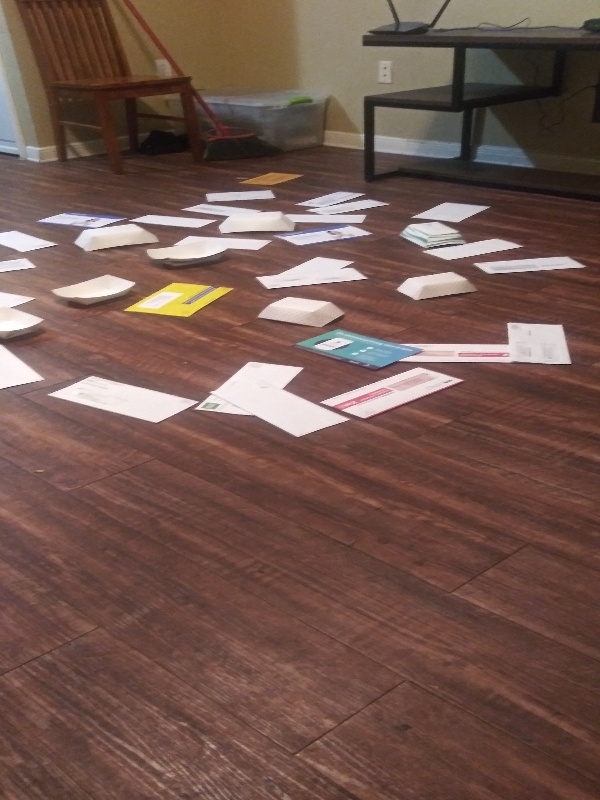plate: (46, 272, 139, 314), (251, 292, 347, 331), (391, 269, 481, 306), (70, 221, 161, 256), (143, 238, 228, 269), (214, 210, 298, 238), (399, 220, 466, 253), (1, 300, 48, 345)
